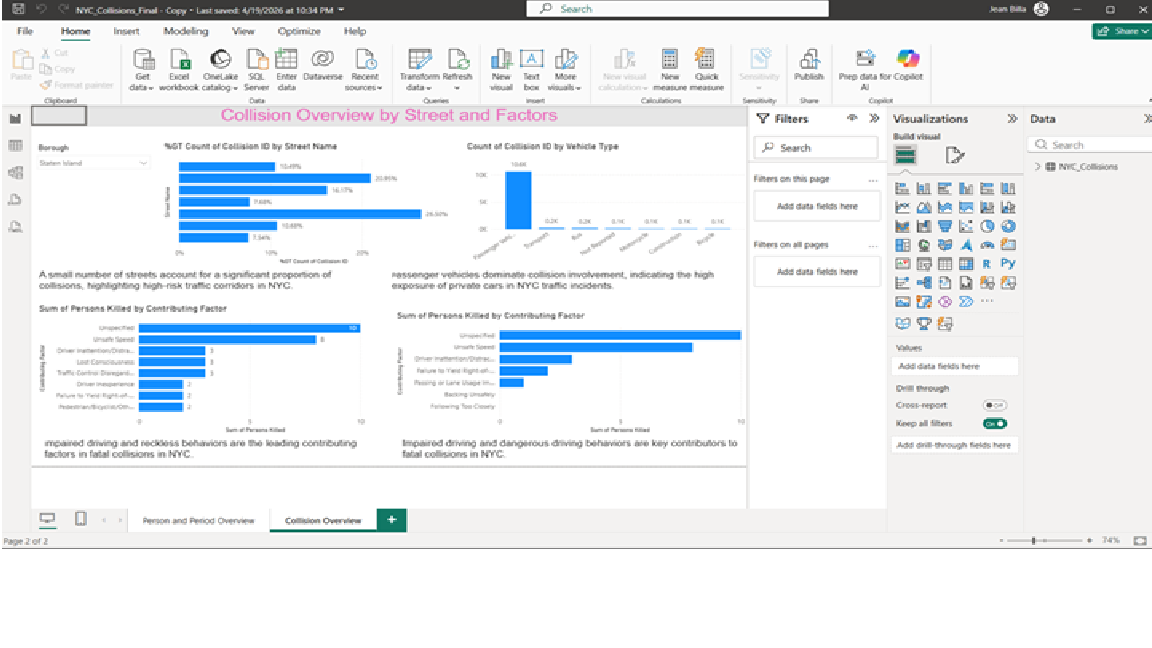

Layout of this report page (visuals, bound fields, positions):
{"tool":"powerbi","page":{"name":"Collision Overview","canvas":[1280,720],"ordinal":1},"visuals":[{"type":"clusteredBarChart","fields":{"Category":["NYC_Collisions.Street Name"],"Y":["CountNonNull(NYC_Collisions.Collision ID)"]},"box":[233.4,71.5,528.8,250.9],"z":0},{"type":"textbox","box":[9.4,322.4,611.1,63.4],"z":1000},{"type":"clusteredColumnChart","fields":{"Category":["NYC_Collisions.Vehicle Type"],"Y":["CountNonNull(NYC_Collisions.Collision ID)"]},"box":[774.4,71.5,505.9,250.9],"z":2000},{"type":"textbox","box":[658.3,659.7,621.9,60.7],"z":3000},{"type":"textbox","box":[639.5,322.4,631.4,63.4],"z":4000},{"type":"clusteredBarChart","fields":{"Category":["NYC_Collisions.Contributing Factor"],"Y":["Sum(NYC_Collisions.Persons Killed)"]},"box":[648.9,408.8,631.4,250.9],"z":5000},{"type":"clusteredBarChart","fields":{"Category":["NYC_Collisions.Contributing Factor"],"Y":["Sum(NYC_Collisions.Persons Killed)"]},"box":[9.4,395.3,611.1,264.4],"z":6000},{"type":"textbox","box":[18.9,659.7,620.6,60.7],"z":7000},{"type":"textbox","title":"Collision Overview by Street and Factors","box":[0,0,1280.3,43.2],"z":8000},{"type":"actionButton","box":[0,0,99.8,40.5],"z":9000},{"type":"slicer","fields":{"Values":["NYC_Collisions.Borough"]},"box":[0,71.5,223.9,233.4],"z":9001}]}

Visuals, with their boxes on the page's 1280x720 design canvas (x1, y1, x2, y2). These are canvas units, not pixel positions in the 1152x648 screenshot, which may show the page scaled, cropped or inside an application window:
clusteredBarChart - NYC_Collisions.Street Name x CountNonNull(NYC_Collisions.Collision ID): (x1=233, y1=72, x2=762, y2=322)
textbox: (x1=9, y1=322, x2=620, y2=386)
clusteredColumnChart - NYC_Collisions.Vehicle Type x CountNonNull(NYC_Collisions.Collision ID): (x1=774, y1=72, x2=1280, y2=322)
textbox: (x1=658, y1=660, x2=1280, y2=720)
textbox: (x1=640, y1=322, x2=1271, y2=386)
clusteredBarChart - NYC_Collisions.Contributing Factor x Sum(NYC_Collisions.Persons Killed): (x1=649, y1=409, x2=1280, y2=660)
clusteredBarChart - NYC_Collisions.Contributing Factor x Sum(NYC_Collisions.Persons Killed): (x1=9, y1=395, x2=620, y2=660)
textbox: (x1=19, y1=660, x2=640, y2=720)
"Collision Overview by Street and Factors" textbox: (x1=0, y1=0, x2=1280, y2=43)
actionButton: (x1=0, y1=0, x2=100, y2=40)
slicer - NYC_Collisions.Borough: (x1=0, y1=72, x2=224, y2=305)
